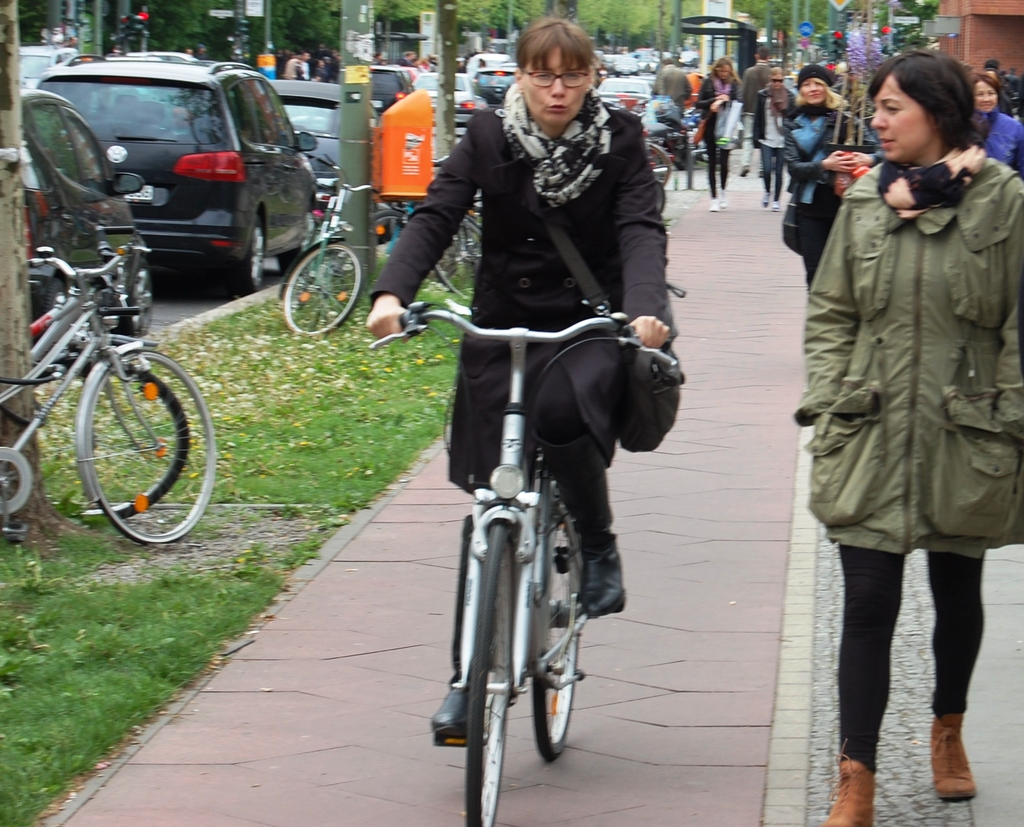Bike: (373, 302, 672, 821)
